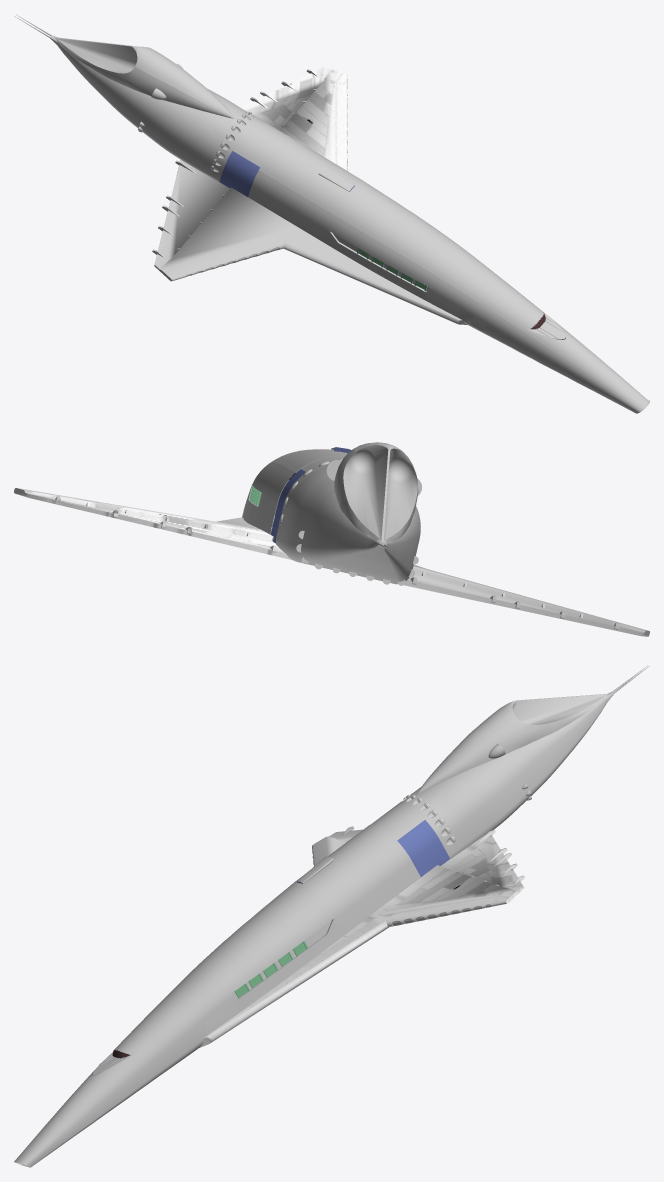
Rendered from Orion.obj.
3 views of the same model, one above another, from view 1: azimuth 30°, elevation 25°; view 2: azimuth 150°, elevation 25°; view 3: azimuth 270°, elevation 25° (orthographic). The views are drawn at different scales.
Visible parts, largest first — view 1: mesh08, WingR, mesh07, mesh02, WingL, mesh13, mesh04, mesh14, mesh12, mesh11; view 2: mesh02, mesh04, WingL, WingR, mesh07, mesh13, mesh08, mesh11, mesh14, mesh03; view 3: mesh07, mesh08, mesh02, WingL, mesh13, mesh04, mesh11, mesh14, mesh12, WingR.
Boxes of the visible parts, x1,y1,x2,y2 form: mesh08: (259, 135, 616, 384); WingR: (152, 160, 466, 324); mesh07: (248, 170, 649, 413); mesh02: (14, 14, 258, 181); WingL: (241, 67, 347, 170); mesh13: (54, 37, 235, 119); mesh04: (55, 38, 565, 339); mesh14: (55, 37, 220, 108); mesh12: (232, 118, 354, 191); mesh11: (219, 151, 354, 196); mesh02: (275, 458, 420, 584); mesh04: (343, 444, 417, 540); WingL: (14, 488, 292, 560); WingR: (404, 564, 649, 636); mesh07: (242, 462, 295, 541); mesh13: (334, 449, 418, 542); mesh08: (272, 449, 347, 497); mesh11: (270, 447, 351, 543); mesh14: (353, 442, 412, 540); mesh03: (296, 530, 418, 585); mesh07: (14, 843, 432, 1167); mesh08: (46, 824, 399, 1129); mesh02: (398, 665, 649, 858); WingL: (199, 830, 524, 1047); mesh13: (416, 693, 608, 794); mesh04: (93, 694, 607, 1074); mesh11: (297, 820, 449, 883); mesh14: (430, 694, 606, 777); mesh12: (297, 803, 424, 883); WingR: (235, 826, 362, 993).
Bounding box in the file's own units: 441 × 327 × 603.
